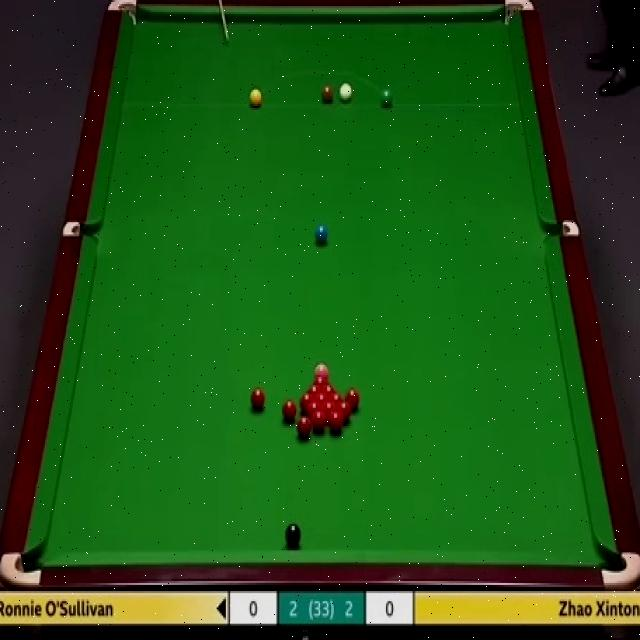black-ball: (284, 520, 302, 545)
blue-ball: (314, 225, 329, 243)
brown-ball: (322, 85, 333, 104)
green-ball: (379, 86, 394, 109)
pink-ball: (314, 366, 330, 381)
red-ball: (296, 415, 312, 441), (281, 398, 298, 420), (250, 387, 266, 410), (336, 401, 352, 423), (300, 392, 315, 414), (330, 410, 344, 432), (310, 411, 326, 430), (324, 383, 338, 402), (346, 390, 359, 410), (308, 384, 323, 398)
white-ball: (339, 80, 352, 102)
yellow-ball: (249, 88, 262, 108)
